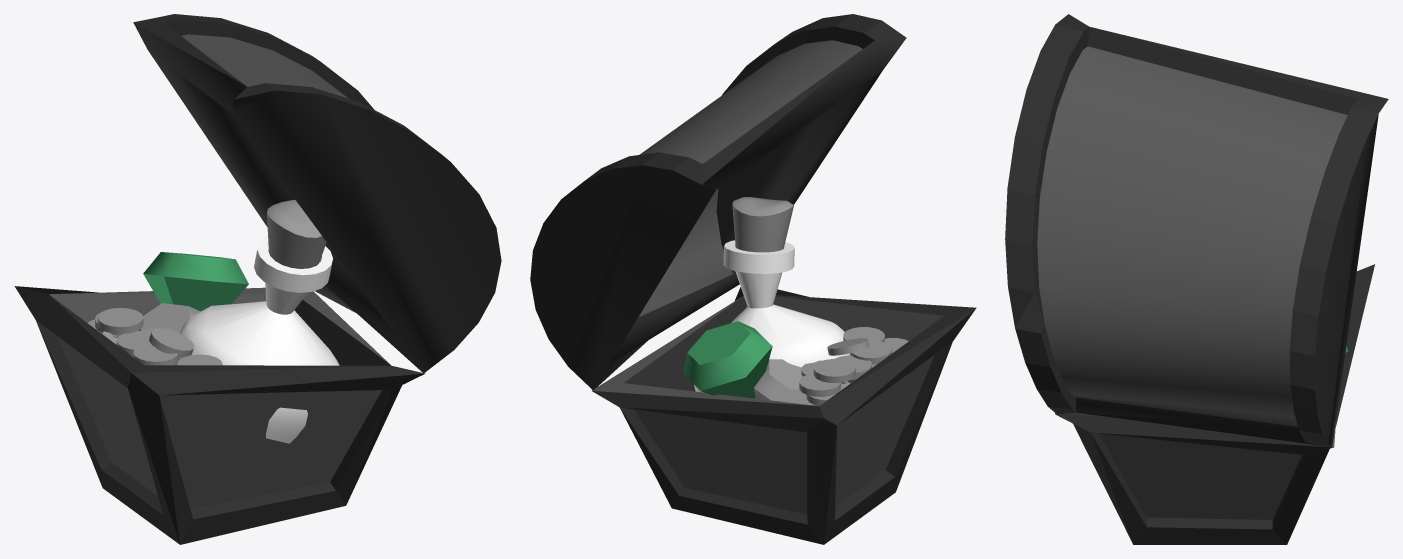
Rendered from Loot_Safe.FBX.
3 views of the same model, side by side, from view 1: azimuth 30°, elevation 25°; view 2: azimuth 150°, elevation 25°; view 3: azimuth 270°, elevation 25° (orthographic). The views are drawn at different scales.
Parts seen in each view (by area): view 1: Loot_Safe; view 2: Loot_Safe; view 3: Loot_Safe.
Part boxes in pixels (left/top/right/bottom): Loot_Safe: left=14, top=14, right=501, bottom=544; Loot_Safe: left=530, top=14, right=976, bottom=544; Loot_Safe: left=1005, top=14, right=1388, bottom=544.
Bounding box in the file's own units: 296 × 356 × 266.
